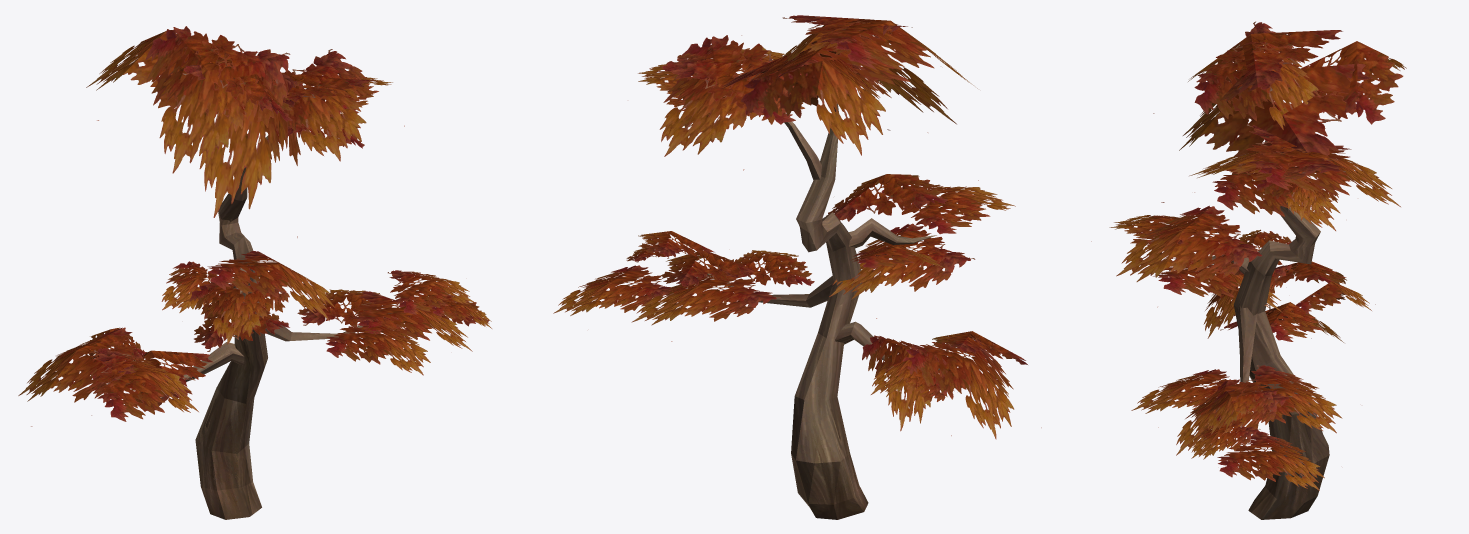
Rendered from environment_Tree_red_001_a.FBX.
3 renders of one model, left to right at view 1: azimuth 30°, elevation 25°; view 2: azimuth 150°, elevation 25°; view 3: azimuth 270°, elevation 25°, orthographic. The views are drawn at different scales.
Parts seen in each view (by area): view 1: environment_Tree_red_001_a, environment_Tree_red_001_b; view 2: environment_Tree_red_001_a, environment_Tree_red_001_b; view 3: environment_Tree_red_001_a, environment_Tree_red_001_b.
Boxes of the visible parts, left/top/right/bottom form: environment_Tree_red_001_a: left=18, top=26, right=491, bottom=426; environment_Tree_red_001_b: left=183, top=135, right=391, bottom=519; environment_Tree_red_001_a: left=553, top=15, right=1041, bottom=439; environment_Tree_red_001_b: left=707, top=103, right=939, bottom=519; environment_Tree_red_001_a: left=1091, top=21, right=1406, bottom=490; environment_Tree_red_001_b: left=1194, top=136, right=1329, bottom=519.
Size of the model in its own units: 356 by 328 by 239.
Materials: 2 (2 with a texture image).
